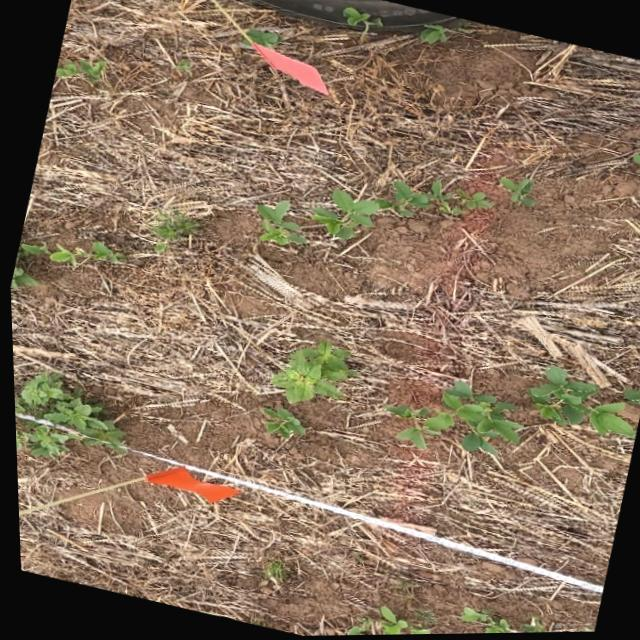caruru_weed: (12, 372, 119, 456), (268, 342, 351, 403)
grassy_weed: (258, 559, 283, 591)
soy_plant: (309, 181, 490, 240), (383, 382, 518, 456), (524, 368, 631, 439), (8, 240, 121, 289), (340, 606, 423, 636), (145, 212, 196, 253), (257, 203, 302, 245), (455, 608, 513, 635), (258, 407, 301, 440), (54, 60, 105, 83), (341, 7, 381, 34), (496, 178, 532, 206), (245, 29, 281, 49), (609, 182, 640, 201), (418, 25, 446, 46), (514, 618, 543, 634)
